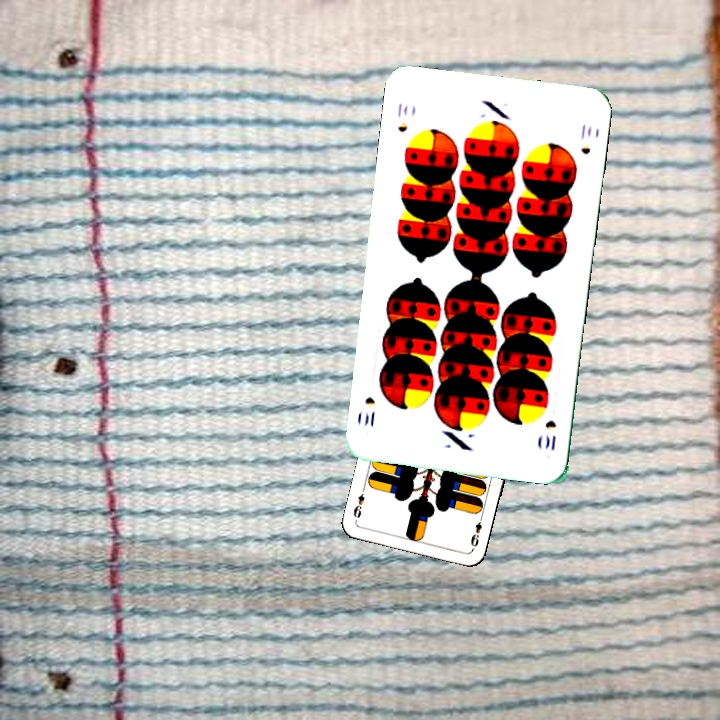E9: (466, 511, 485, 551)
S10: (541, 416, 559, 454), (393, 98, 411, 135)
